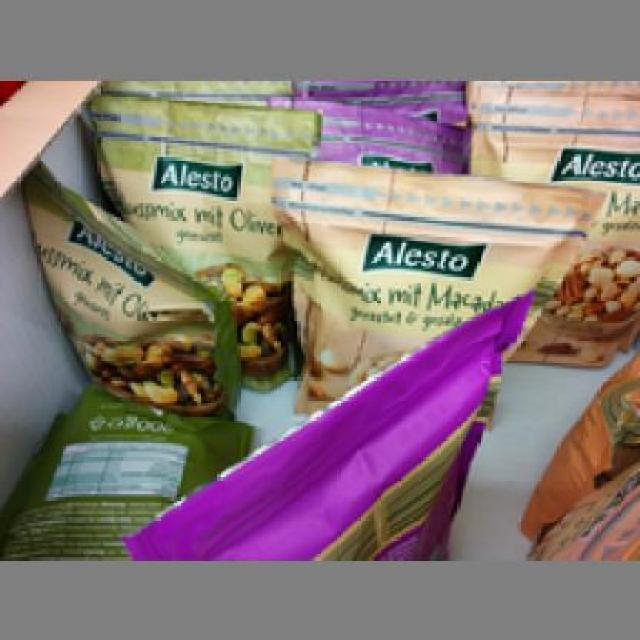Nuts: (266, 154, 603, 412), (77, 91, 314, 392), (20, 157, 237, 414)
